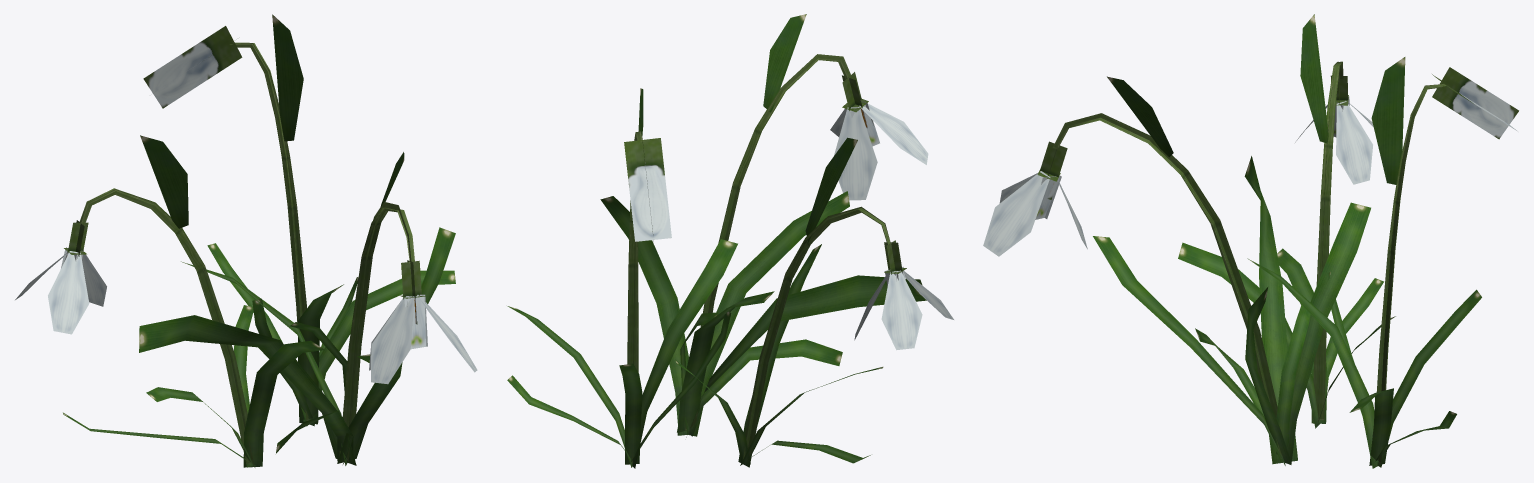
The model's file is miracle-snowdrop-2.glb.
3 views of the same model, side by side, from view 1: azimuth 30°, elevation 25°; view 2: azimuth 150°, elevation 25°; view 3: azimuth 270°, elevation 25° (orthographic). The views are drawn at different scales.
Visible parts, largest first — view 1: snowdrop_group_3_LOD1_Snowdrop_2048_0; view 2: snowdrop_group_3_LOD1_Snowdrop_2048_0; view 3: snowdrop_group_3_LOD1_Snowdrop_2048_0.
Part boxes in pixels (bbox=[...]): snowdrop_group_3_LOD1_Snowdrop_2048_0: bbox=[15, 14, 477, 467]; snowdrop_group_3_LOD1_Snowdrop_2048_0: bbox=[507, 14, 953, 468]; snowdrop_group_3_LOD1_Snowdrop_2048_0: bbox=[983, 14, 1518, 468].
Size of the model in its own units: 0.4665 by 0.42 by 0.5108.
1 material, 1 textured.
